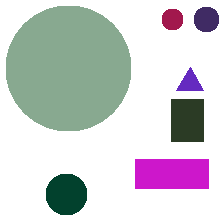circle: (6, 6, 130, 130), (46, 174, 86, 214), (194, 7, 218, 31), (162, 9, 182, 29)
rectangle: (135, 159, 208, 188), (171, 99, 203, 141)
triangle: (176, 67, 203, 90)
